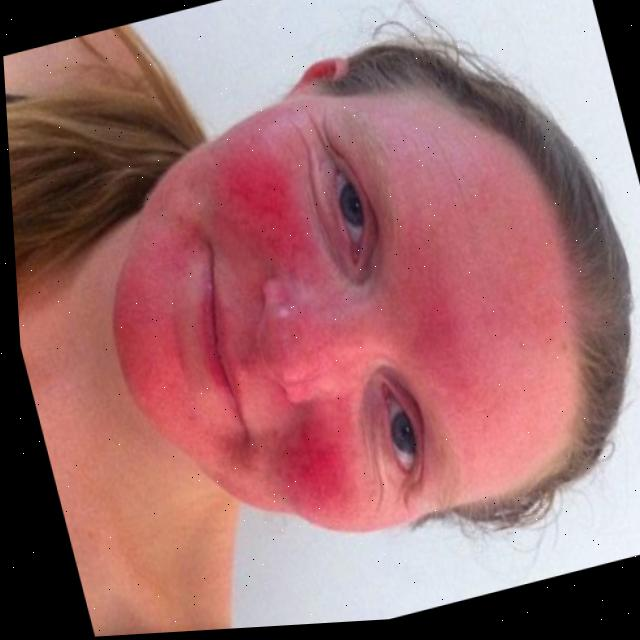Rosacea: (97, 79, 587, 553)
